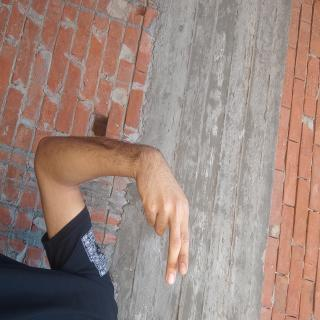AYN: (104, 165, 218, 256)
